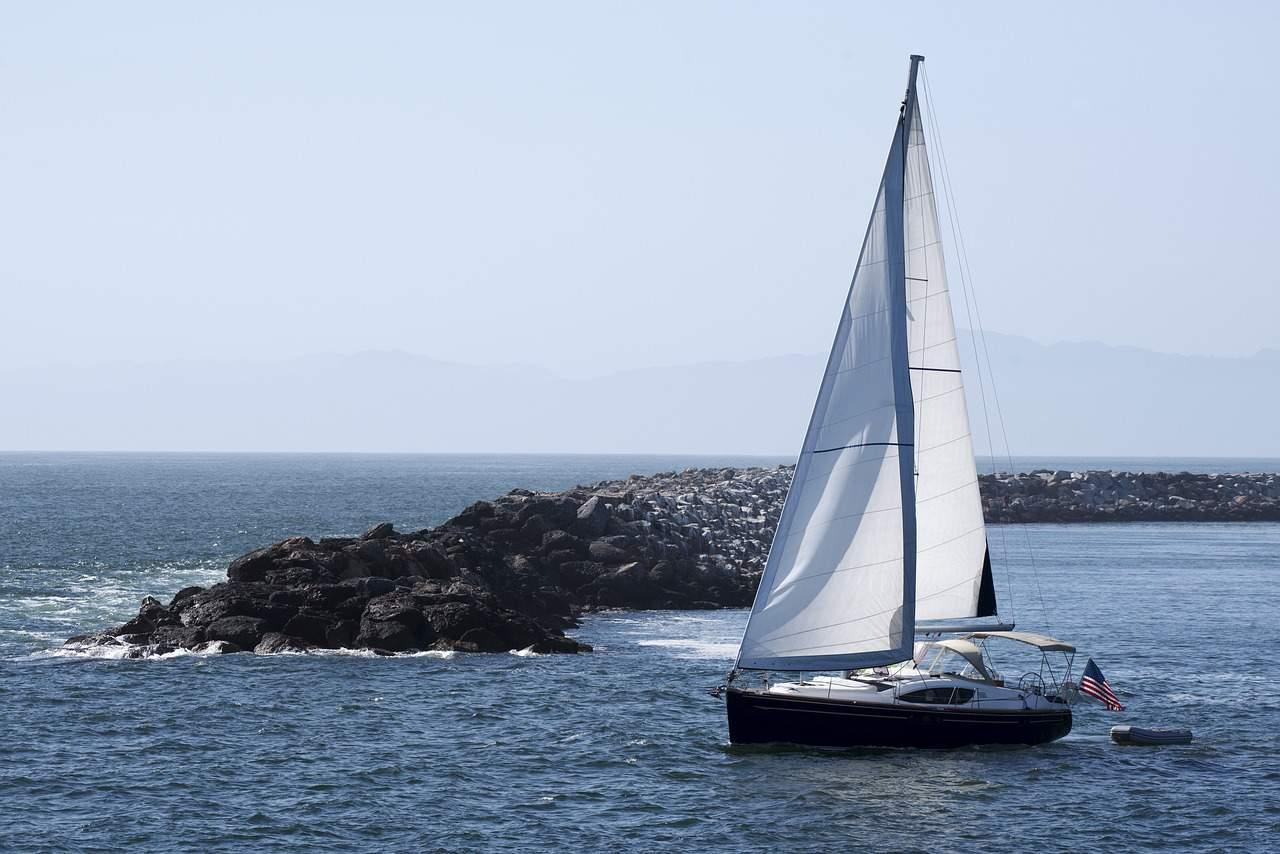Ship: (727, 55, 1117, 751)
